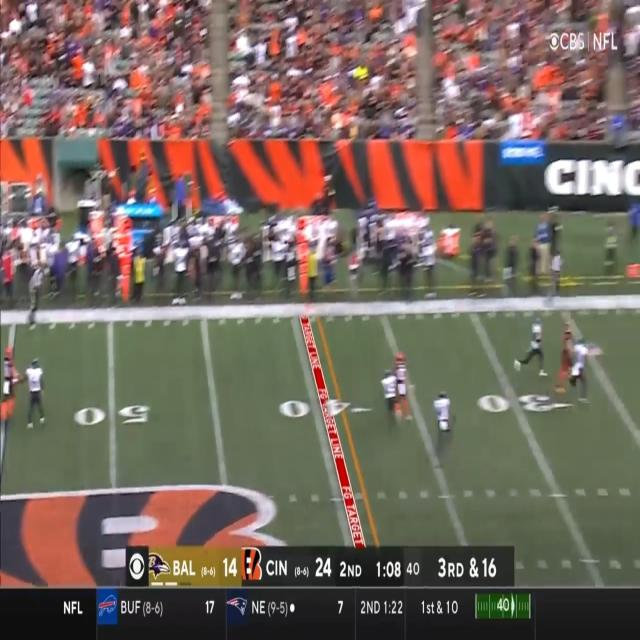Ball: (230, 20, 236, 30)
